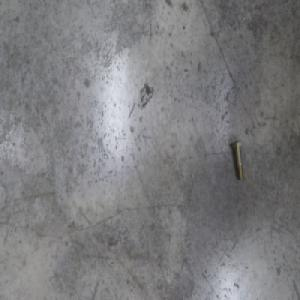Bolt: (231, 138, 244, 180)
